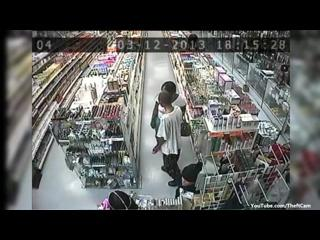Normal: (152, 91, 184, 186)
